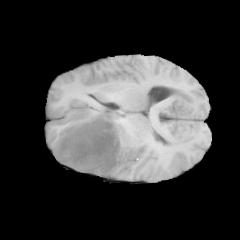glioma: (53, 109, 120, 177)
